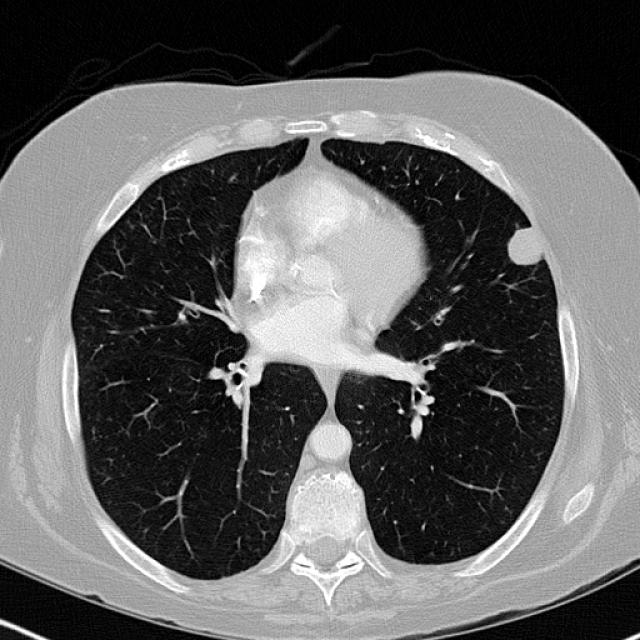nodule: (484, 206, 561, 284)
